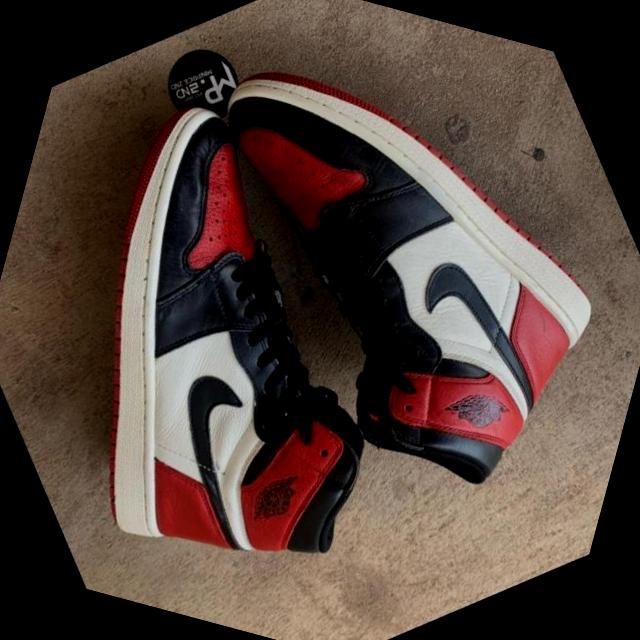nike_original_jordan: (108, 0, 640, 581), (0, 40, 499, 640)
